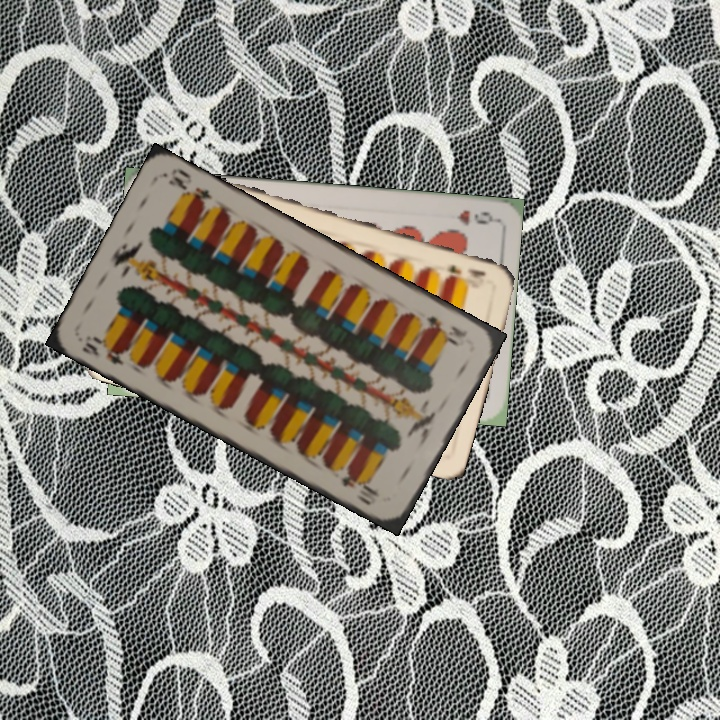E10: (78, 331, 130, 368), (421, 312, 470, 347), (442, 261, 489, 280)
H9: (452, 206, 496, 229)
